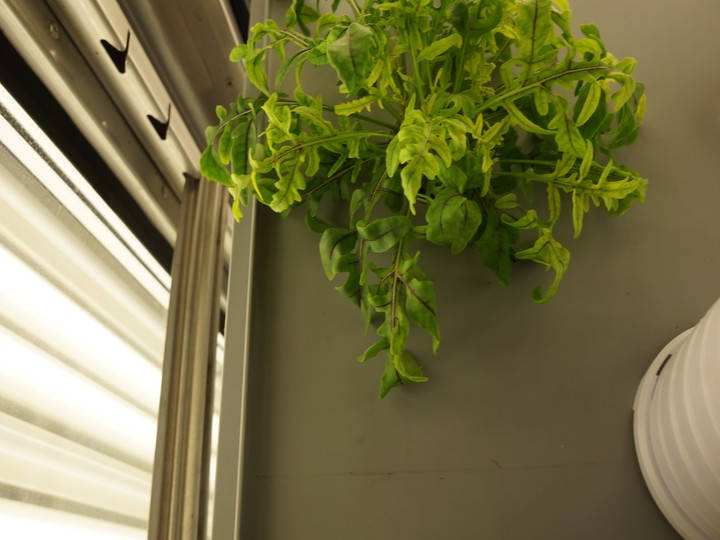roquette_sauvage_red_veined: (203, 1, 668, 405)
